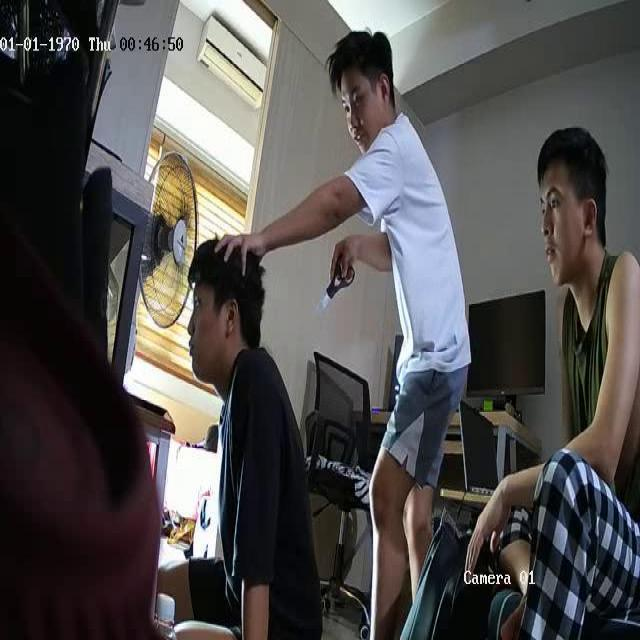scissor: (316, 256, 354, 310)
